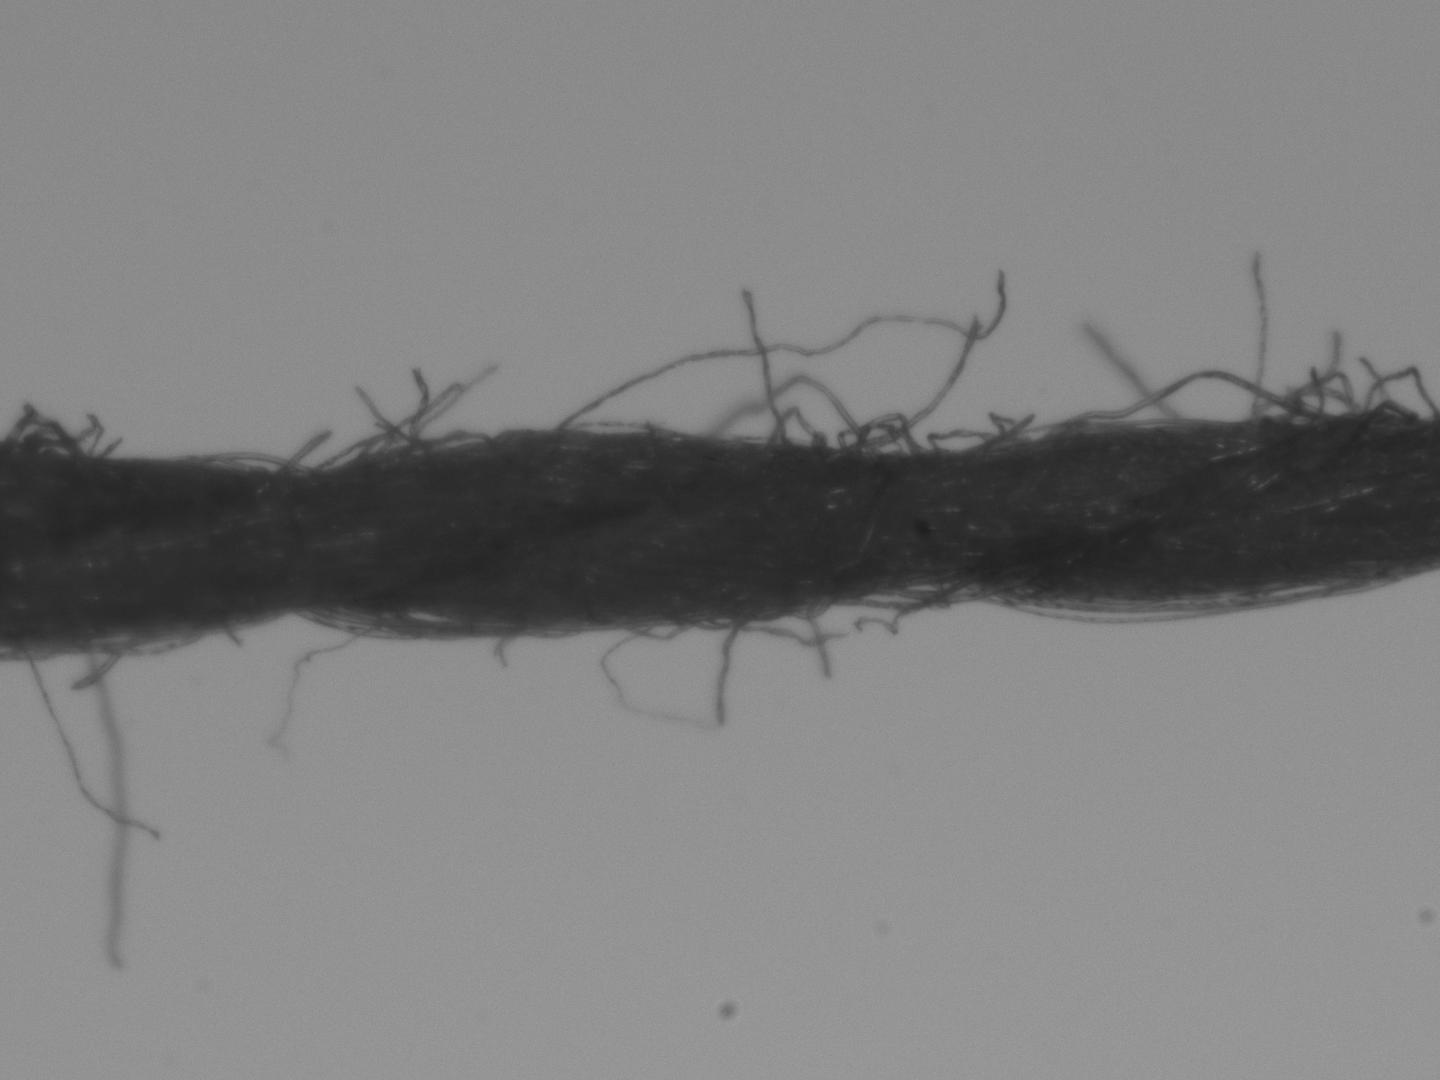loop_fiber: (1068, 369, 1314, 430), (288, 609, 517, 646), (852, 579, 1002, 611), (358, 425, 497, 461), (1359, 363, 1431, 420), (67, 630, 185, 660), (6, 408, 77, 456), (195, 449, 303, 476), (854, 413, 920, 455), (763, 408, 827, 448), (556, 417, 684, 436), (620, 616, 712, 640), (925, 428, 998, 455)
protruding_fiber: (22, 650, 155, 837), (740, 293, 785, 447), (1250, 259, 1269, 429), (713, 611, 739, 729)
